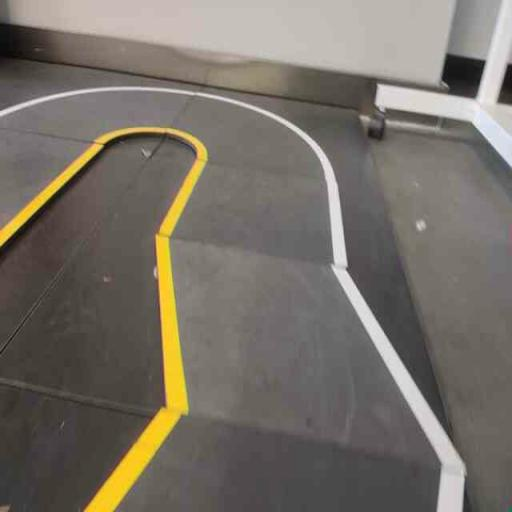crossleft: (155, 235, 478, 470)
